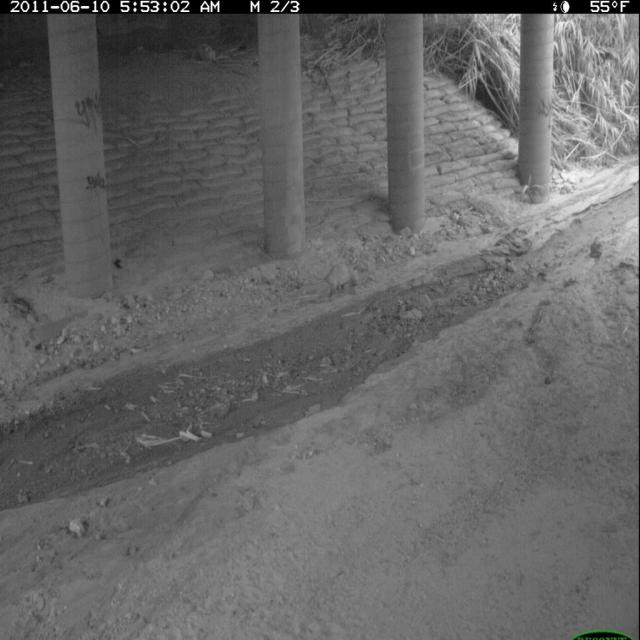opossum: (307, 258, 362, 304)
